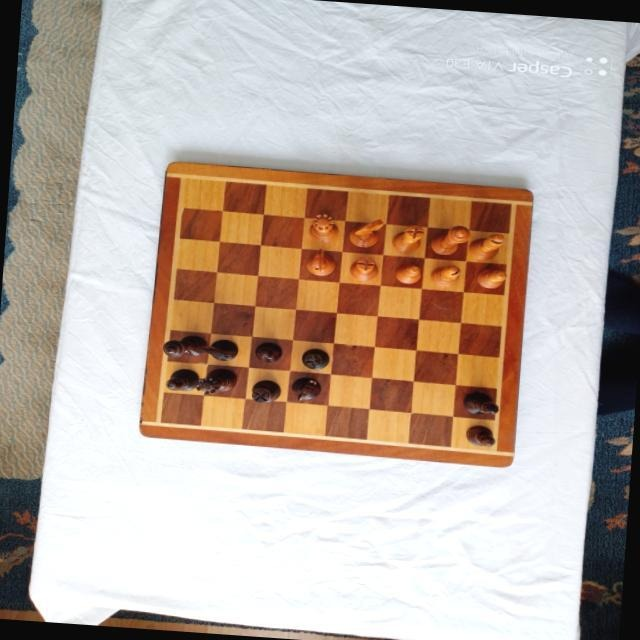black-bishop: (460, 388, 499, 415), (164, 366, 200, 390)
black-king: (161, 331, 207, 358)
black-knight: (288, 374, 322, 402), (202, 336, 238, 360)
black-pawn: (464, 423, 496, 447), (253, 339, 282, 362)
black-queen: (194, 366, 237, 397)
black-rook: (250, 377, 282, 403), (299, 346, 330, 370)
white-bishop: (467, 230, 505, 260), (429, 261, 461, 287)
white-king: (429, 222, 471, 255)
white-knight: (347, 215, 385, 248), (304, 245, 336, 275)
white-pawn: (476, 267, 507, 290), (394, 260, 422, 283)
white-queen: (306, 212, 340, 244)
white-rook: (390, 222, 424, 254), (348, 255, 380, 281)
